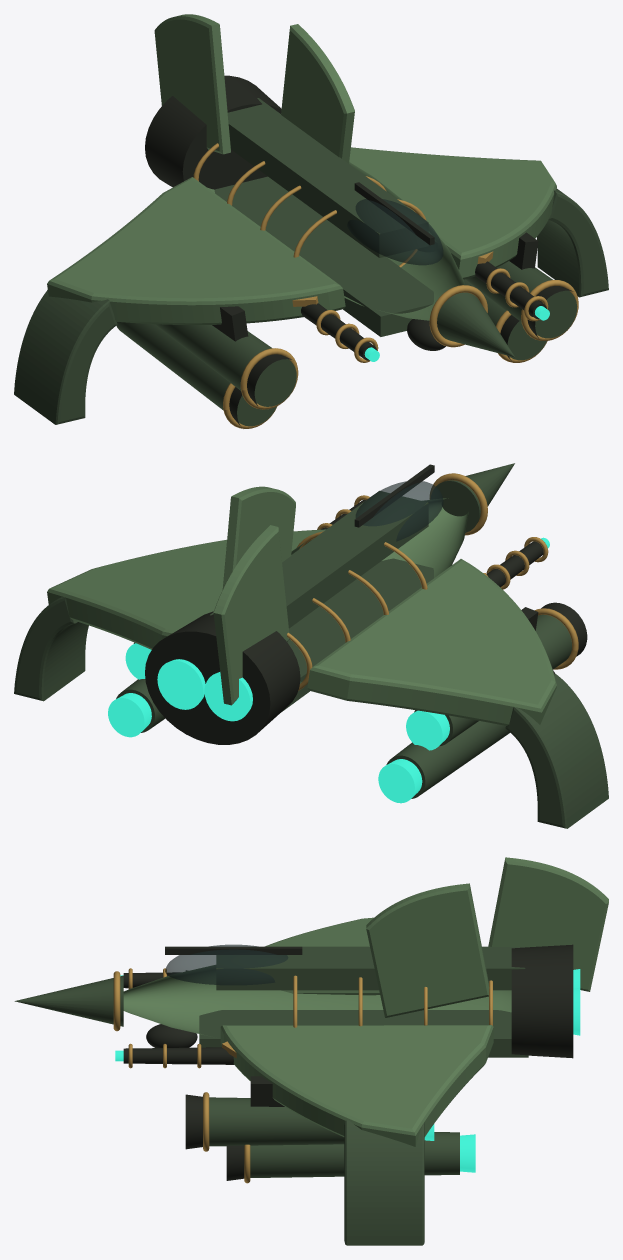
The model's file is warbird-heavy-lod0.glb.
3 renders of one model, top to bottom at view 1: azimuth 30°, elevation 25°; view 2: azimuth 150°, elevation 25°; view 3: azimuth 270°, elevation 25°, orthographic. The views are drawn at different scales.
Parts seen in each view (by area): view 1: wing_panel (×2), wing_talon (×2), dorsal_armor, ventral_armor, nacelle_shell_1 (×2), tailfin_port, engine_housing, tailfin_starboard, nacelle_shell_2 (×2), canopy, fuselage, armored_prow (+7 smaller); view 2: wing_panel (×2), wing_talon (×2), engine_housing, dorsal_armor, tailfin_port, ventral_armor, tailfin_starboard, nacelle_shell_2 (×2), plasma_exhaust_2 (×2), fuselage, canopy, armored_prow (+9 smaller); view 3: wing_panel (×2), tailfin_starboard, tailfin_port, wing_talon, fuselage, dorsal_armor, engine_housing, ventral_armor, nacelle_shell_1, nacelle_shell_2, canopy, armored_prow (+7 smaller).
Part boxes in pixels (bbox=[...]): wing_panel (×2): bbox=[47, 147, 556, 324]; wing_talon (×2): bbox=[14, 188, 608, 424]; dorsal_armor: bbox=[227, 98, 428, 257]; ventral_armor: bbox=[214, 176, 433, 336]; nacelle_shell_1 (×2): bbox=[155, 261, 577, 406]; tailfin_port: bbox=[154, 14, 230, 154]; engine_housing: bbox=[145, 75, 281, 189]; tailfin_starboard: bbox=[281, 24, 354, 163]; nacelle_shell_2 (×2): bbox=[116, 279, 546, 426]; canopy: bbox=[347, 199, 443, 265]; fuselage: bbox=[207, 162, 464, 320]; armored_prow: bbox=[435, 292, 514, 357]; wing_panel (×2): bbox=[47, 529, 556, 725]; wing_talon (×2): bbox=[14, 597, 608, 828]; engine_housing: bbox=[145, 611, 300, 744]; dorsal_armor: bbox=[209, 490, 428, 628]; tailfin_port: bbox=[213, 525, 289, 705]; ventral_armor: bbox=[281, 558, 433, 712]; tailfin_starboard: bbox=[222, 486, 295, 589]; nacelle_shell_2 (×2): bbox=[116, 679, 510, 798]; plasma_exhaust_2 (×2): bbox=[108, 693, 422, 803]; fuselage: bbox=[291, 498, 468, 683]; canopy: bbox=[355, 481, 443, 541]; armored_prow: bbox=[431, 463, 514, 532]; wing_panel (×2): bbox=[220, 917, 493, 1146]; tailfin_starboard: bbox=[366, 883, 489, 1017]; tailfin_port: bbox=[488, 857, 608, 991]; wing_talon: bbox=[344, 1120, 424, 1245]; fuselage: bbox=[123, 965, 511, 1036]; dorsal_armor: bbox=[216, 946, 525, 990]; engine_housing: bbox=[511, 944, 573, 1058]; ventral_armor: bbox=[199, 1010, 528, 1057]; nacelle_shell_1: bbox=[209, 1097, 344, 1146]; nacelle_shell_2: bbox=[250, 1132, 459, 1177]; canopy: bbox=[165, 944, 288, 985]; armored_prow: bbox=[14, 975, 123, 1026].
Size of the model in its own units: 16.92 by 8.07 by 17.34.
